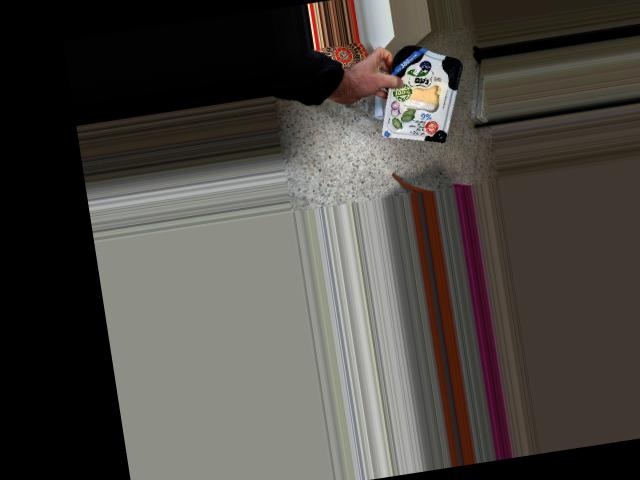cheese: (378, 43, 459, 148)
